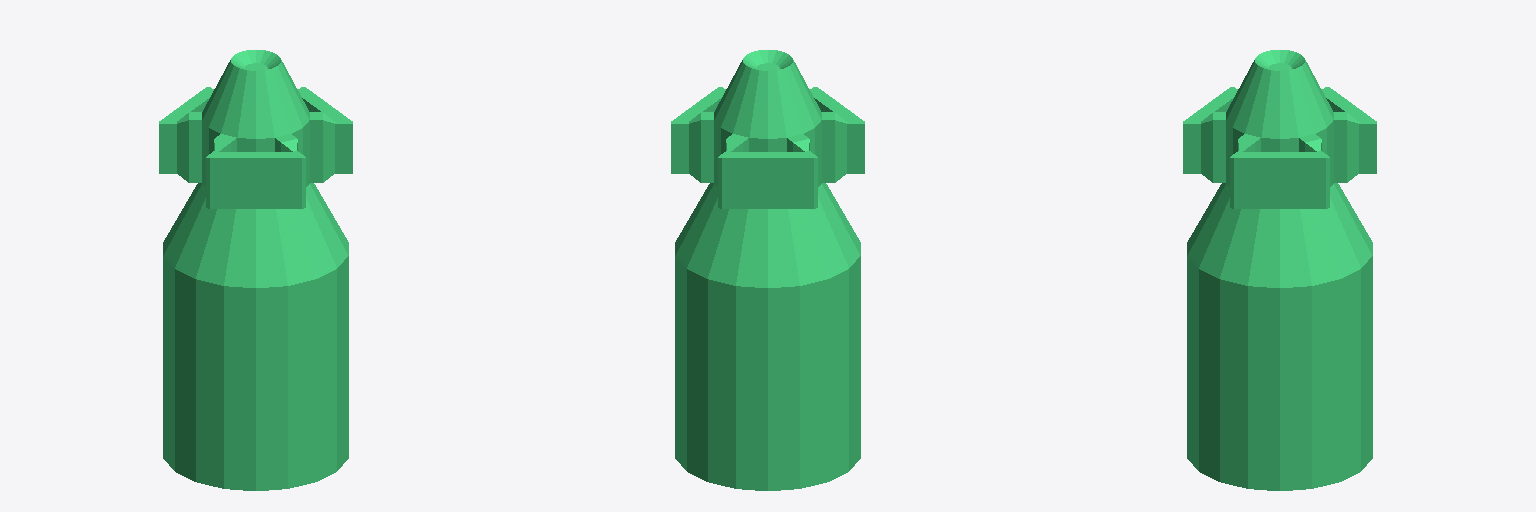
The model's file is laser.obj.
The picture shows the model from 3 angles: view 1: azimuth 30°, elevation 25°; view 2: azimuth 150°, elevation 25°; view 3: azimuth 270°, elevation 25°; orthographic projection.
Parts seen in each view (by area): view 1: Cylinder001; view 2: Cylinder001; view 3: Cylinder001.
Part boxes in pixels (bbox=[...]): Cylinder001: bbox=[159, 50, 352, 490]; Cylinder001: bbox=[671, 50, 864, 490]; Cylinder001: bbox=[1183, 50, 1376, 490].
Size of the model in its own units: 18.49 by 42.5 by 18.99.